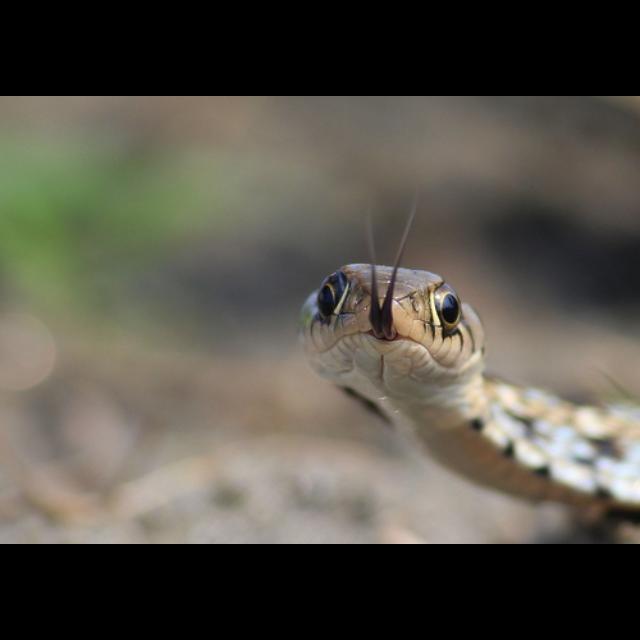snake: (286, 185, 640, 527)
